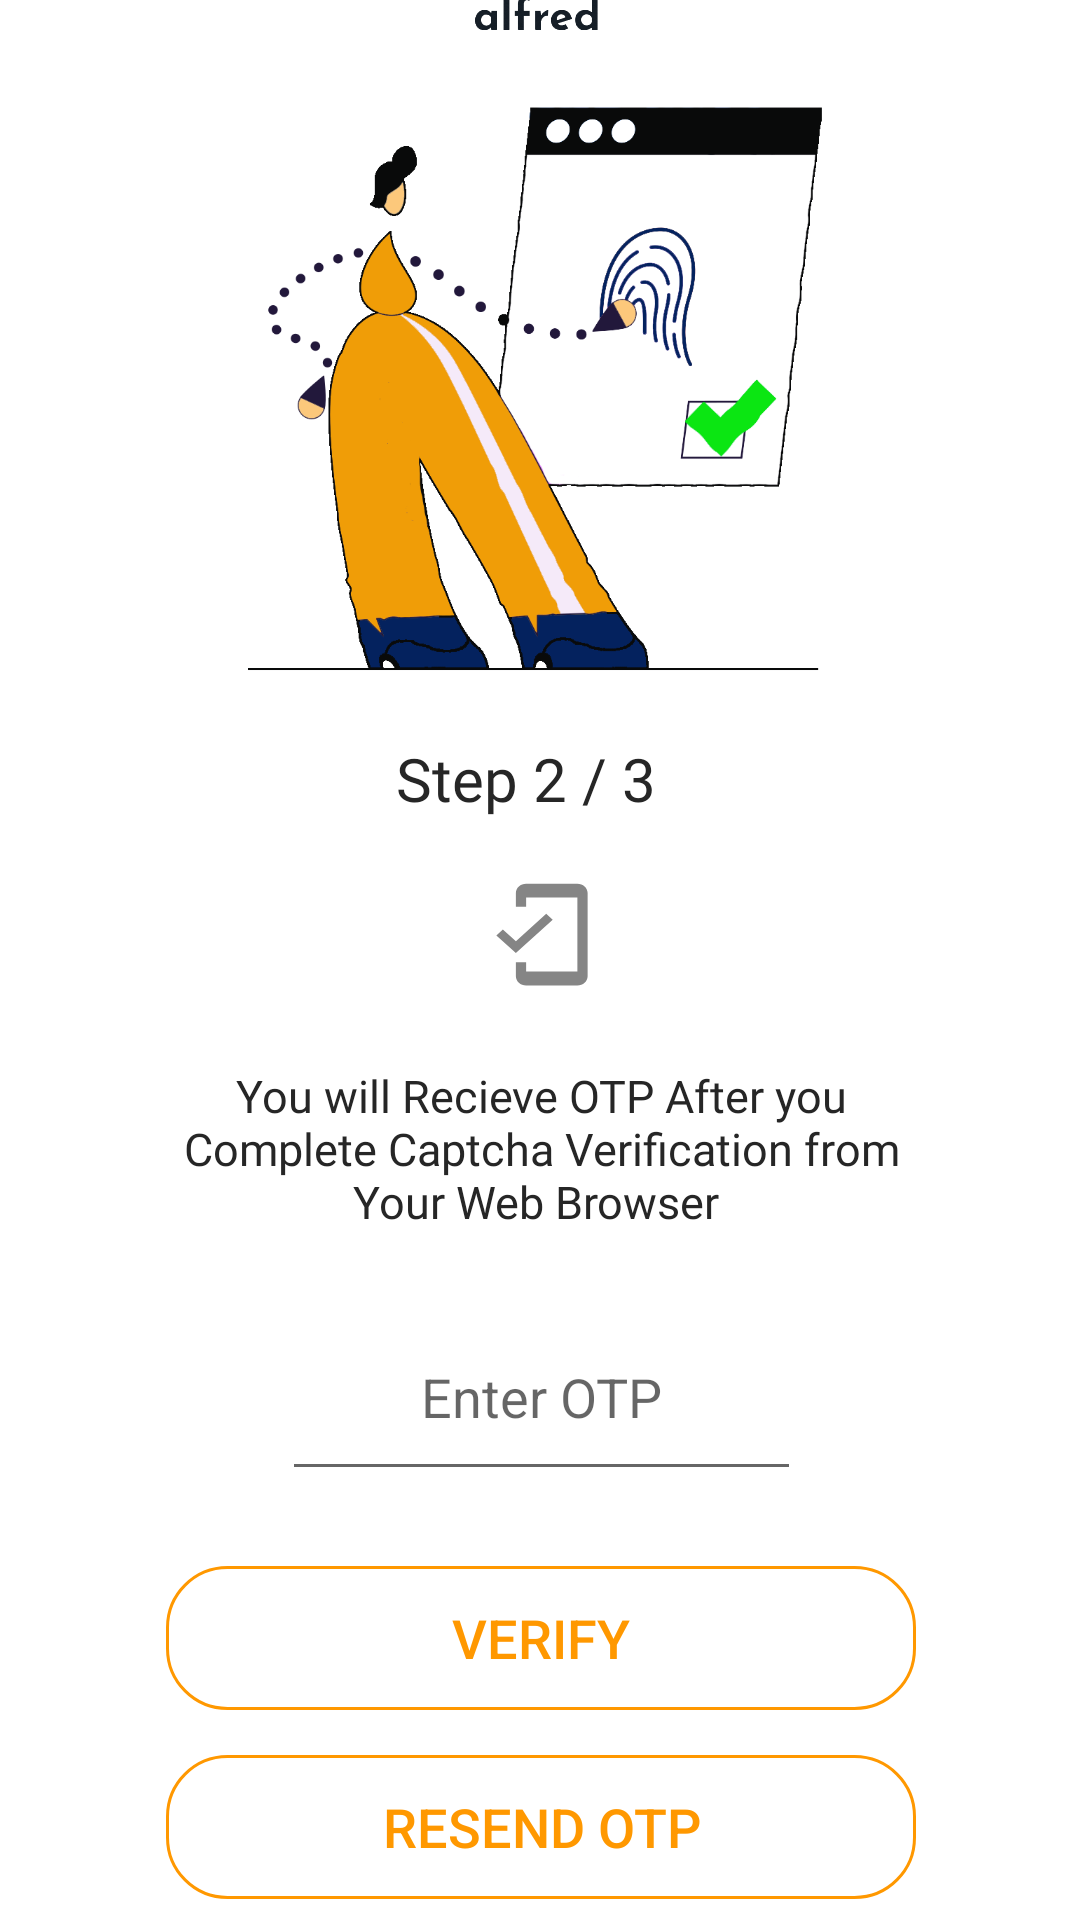

Icon bounding boxes for this 1080 x 1920 phone screenshot, format bbox(x1, y1, x2, y2):
mobilecheckgrey: bbox(496, 883, 588, 986)
